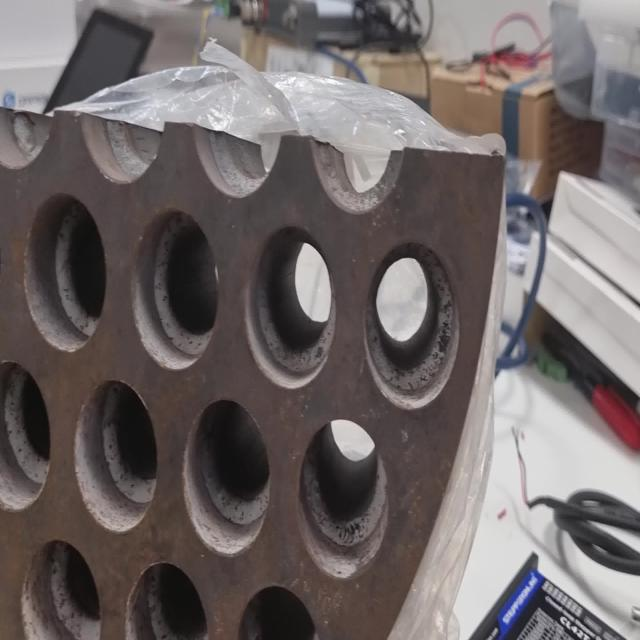Hole: (364, 238, 461, 410), (243, 223, 336, 389), (130, 208, 220, 372), (298, 419, 388, 580), (182, 396, 271, 556), (22, 191, 108, 353), (73, 378, 157, 534), (20, 536, 101, 640), (1, 360, 52, 512), (124, 560, 210, 640), (236, 584, 322, 640)
